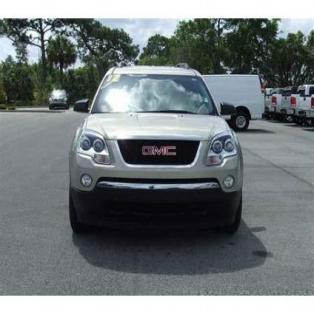Auto: (65, 59, 245, 238)
